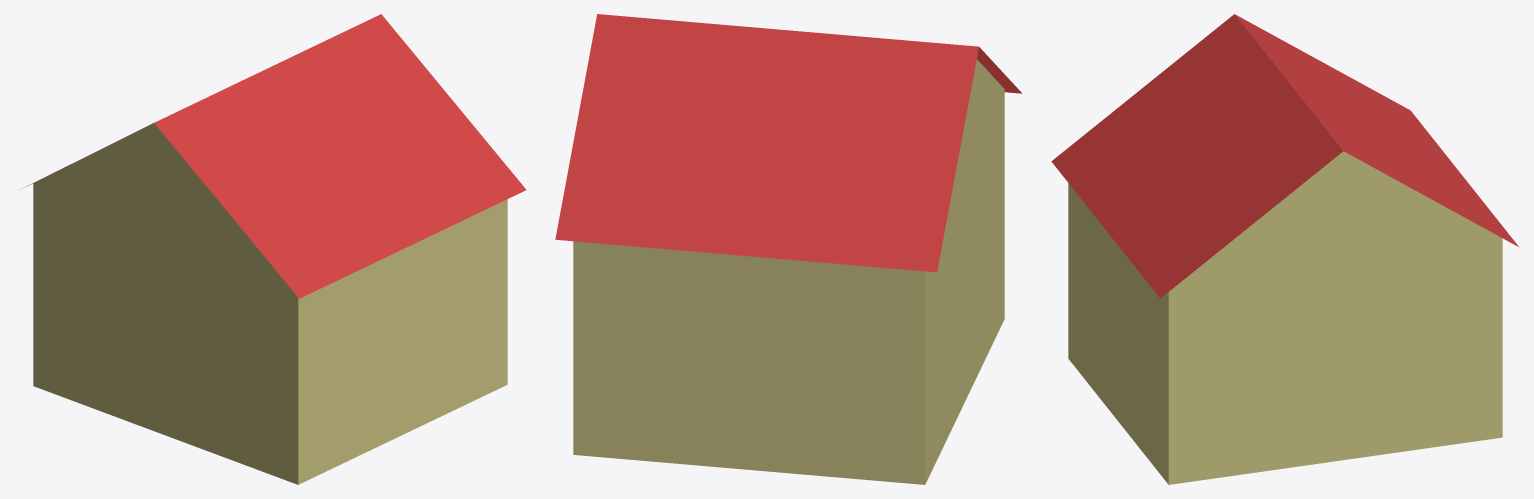
The picture shows the model from 3 angles, left to right: view 1: azimuth 30°, elevation 25°; view 2: azimuth 150°, elevation 25°; view 3: azimuth 270°, elevation 25°; orthographic projection. The views are drawn at different scales.
Bounding box in the file's own units: 16.64 × 17.51 × 12.99.
